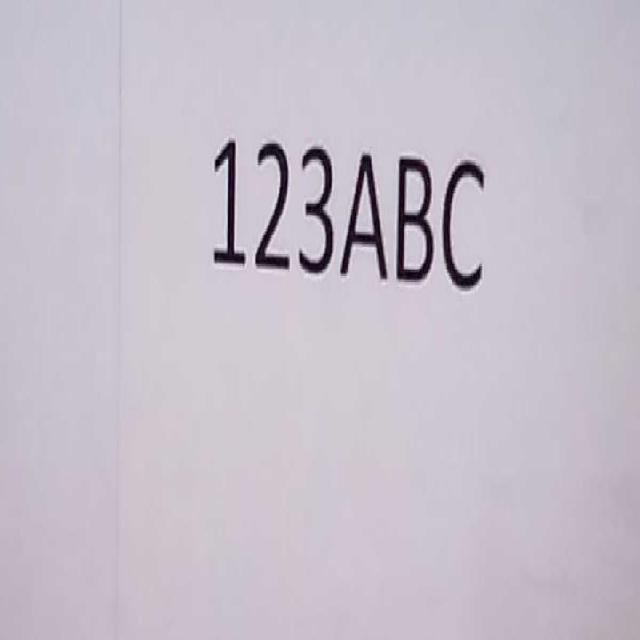license_plate: (208, 127, 490, 306)
